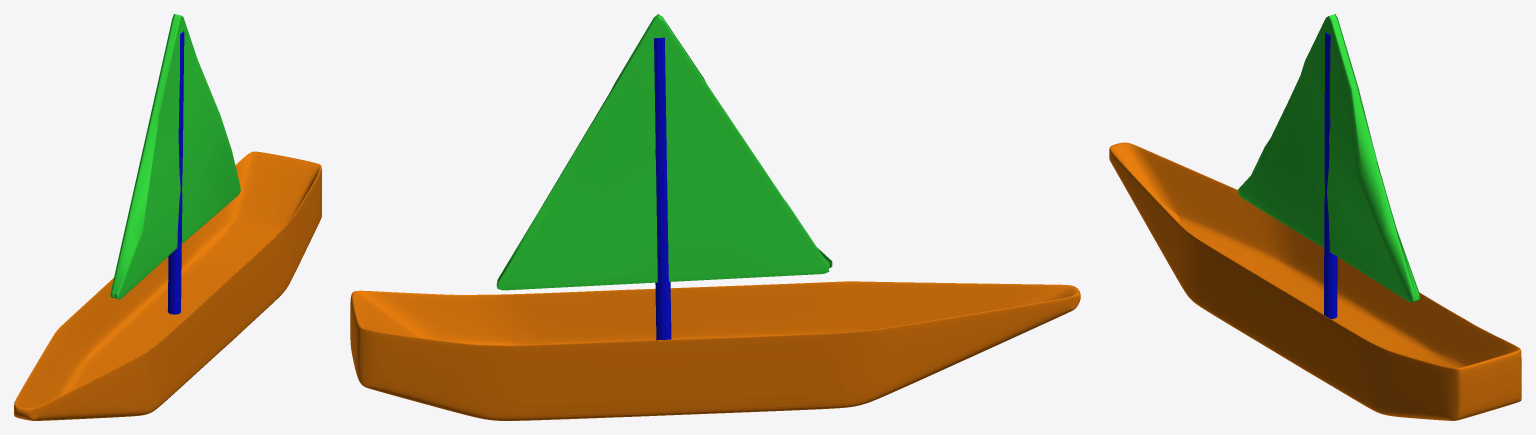
Rendered from boat.glb.
The picture shows the model from 3 angles, left to right: view 1: azimuth 30°, elevation 25°; view 2: azimuth 150°, elevation 25°; view 3: azimuth 270°, elevation 25°; orthographic projection. The views are drawn at different scales.
Visible parts, largest first — view 1: Cube, Cylinder.001, Cylinder; view 2: Cube, Cylinder.001, Cylinder; view 3: Cube, Cylinder.001, Cylinder.
Part boxes in pixels (bbox=[...]): Cube: bbox=[14, 151, 321, 420]; Cylinder.001: bbox=[110, 14, 240, 299]; Cylinder: bbox=[167, 31, 184, 314]; Cube: bbox=[350, 281, 1080, 420]; Cylinder.001: bbox=[496, 14, 832, 290]; Cylinder: bbox=[654, 37, 671, 340]; Cube: bbox=[1109, 142, 1521, 420]; Cylinder.001: bbox=[1238, 14, 1420, 302]; Cylinder: bbox=[1324, 32, 1337, 319].
Size of the model in its own units: 6.75 by 4.49 by 5.
